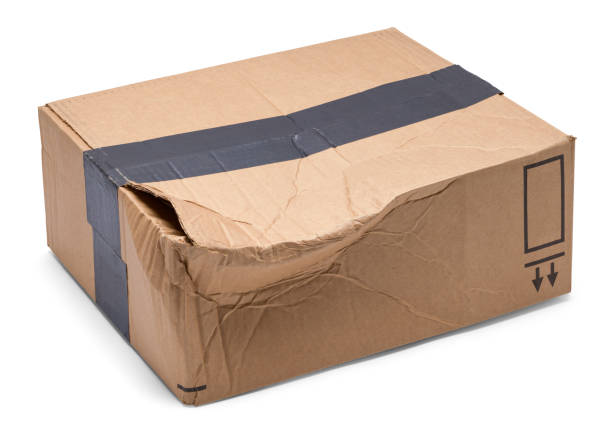damaged package: (122, 167, 474, 397)
